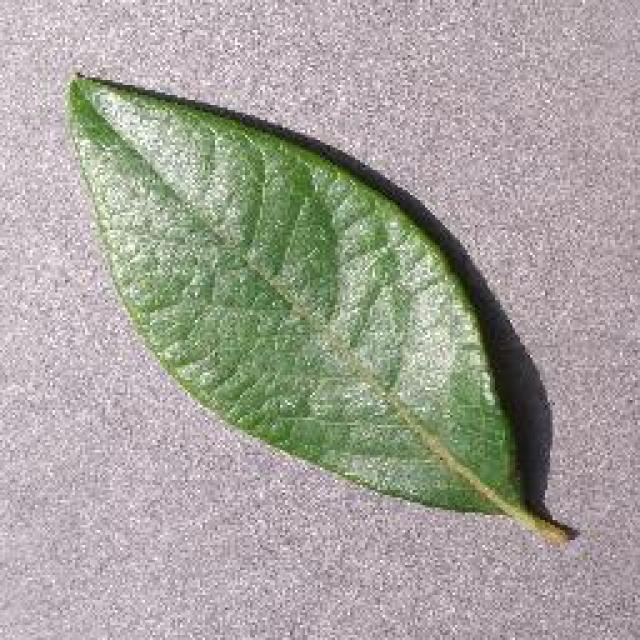Blu_healthy: (105, 106, 505, 506)
